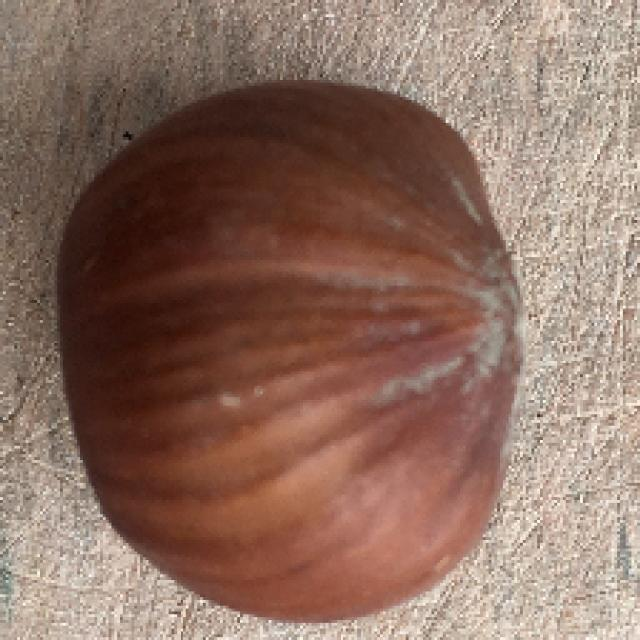DamagedHazelnut: (54, 87, 526, 620)
